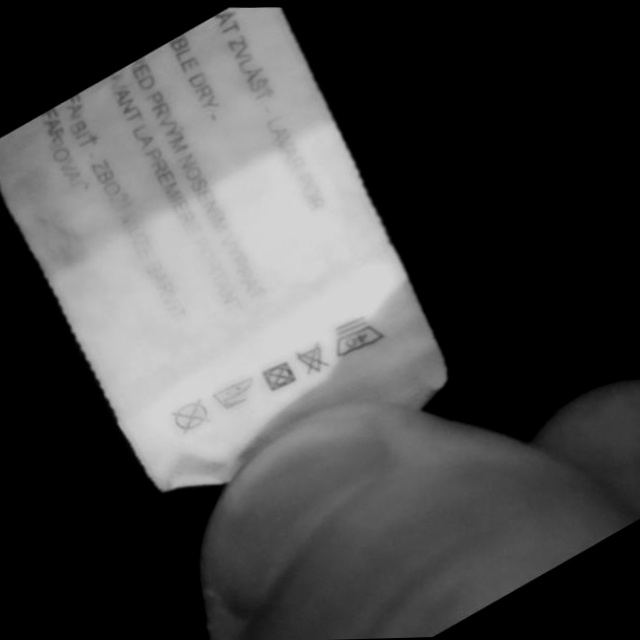40C: (332, 314, 388, 360)
DN_bleach: (298, 344, 329, 375)
DN_dry_clean: (172, 396, 212, 433)
DN_tumble_dry: (262, 360, 298, 393)
iron_low: (214, 373, 258, 410)
